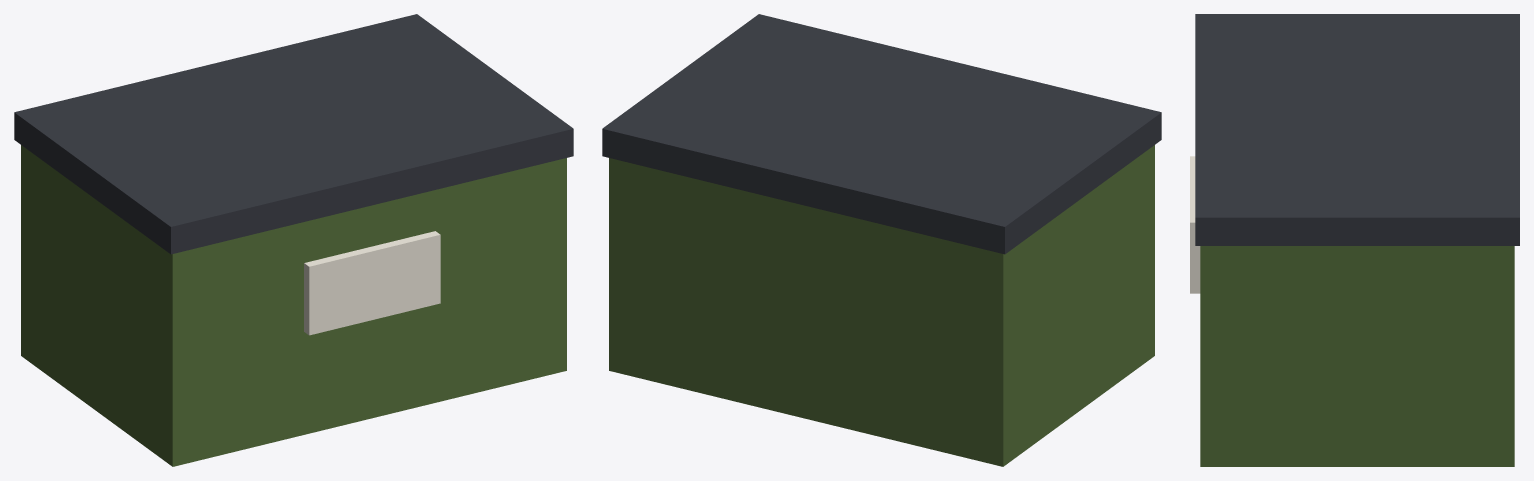
File: supply_crate.glb
3 renders of one model, left to right at view 1: azimuth 30°, elevation 25°; view 2: azimuth 150°, elevation 25°; view 3: azimuth 270°, elevation 25°, orthographic. The views are drawn at different scales.
Parts seen in each view (by area): view 1: supply_crate; view 2: supply_crate; view 3: supply_crate.
Part boxes in pixels (x1,y1,x2,y2): supply_crate: (14, 14, 573, 466); supply_crate: (602, 14, 1161, 466); supply_crate: (1190, 14, 1519, 466).
Size of the model in its own units: 0.92 by 0.53 by 0.63.
